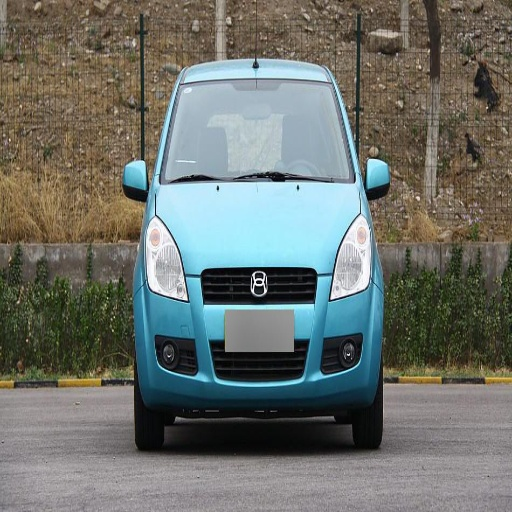front_bumper: (136, 269, 382, 414)
front_right_light: (143, 221, 188, 301)
hood: (156, 184, 359, 274)
